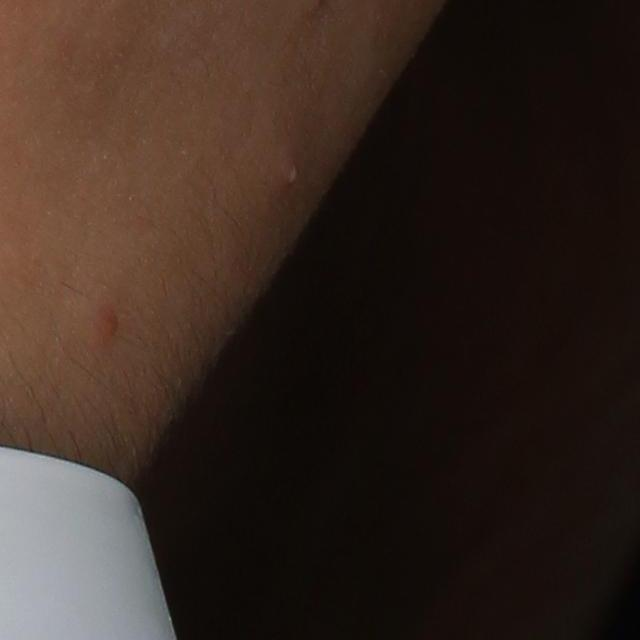papule: (90, 301, 130, 344)
pustule: (276, 144, 306, 194)
